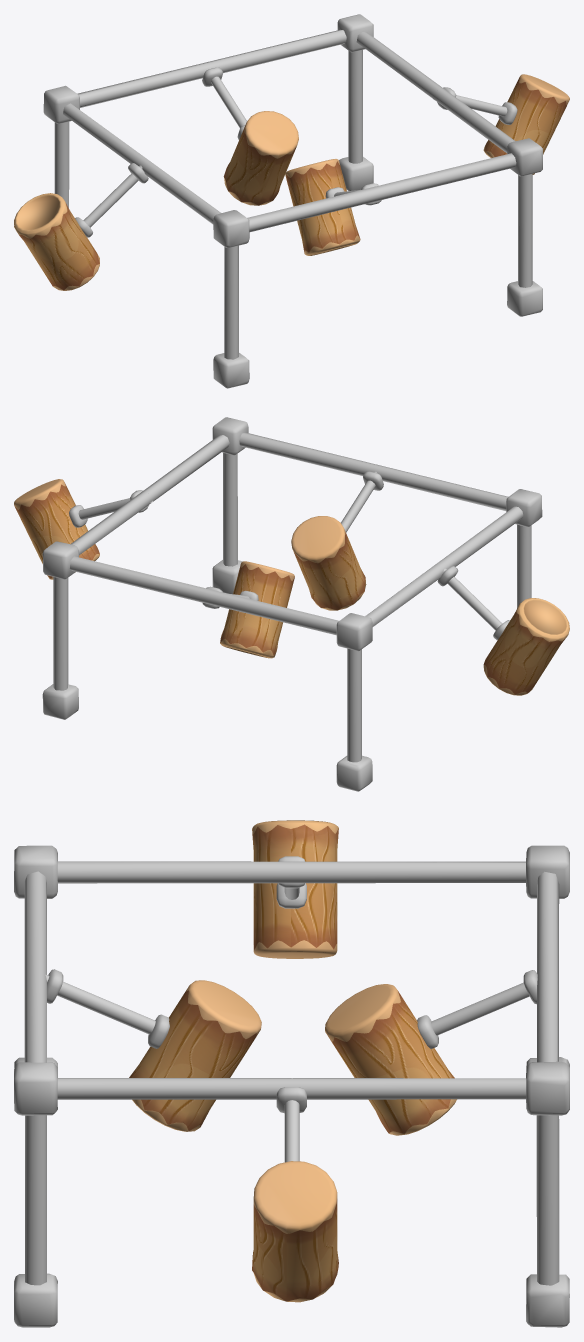
The model's file is Obstacle3.fbx.
The picture shows the model from 3 angles, top to bottom: view 1: azimuth 30°, elevation 25°; view 2: azimuth 150°, elevation 25°; view 3: azimuth 270°, elevation 25°; orthographic projection. The views are drawn at different scales.
Visible parts, largest first — view 1: Obstacle-11.002, Spiral.006, Spiral.009, Spiral.008, Spiral.020; view 2: Obstacle-11.002, Spiral.006, Spiral.008, Spiral.009, Spiral.020; view 3: Obstacle-11.002, Spiral.008, Spiral.009, Spiral.020, Spiral.006.
Boxes of the visible parts, x1,y1,x2,y2 form: Obstacle-11.002: (43,14,542,388); Spiral.006: (14,163,148,290); Spiral.009: (202,67,298,205); Spiral.008: (285,159,381,255); Spiral.020: (433,74,569,174); Obstacle-11.002: (42,417,542,791); Spiral.006: (437,566,569,695); Spiral.008: (291,471,383,610); Spiral.009: (202,561,294,658); Spiral.020: (14,479,152,579); Obstacle-11.002: (14,845,569,1327); Spiral.008: (45,969,261,1131); Spiral.009: (325,970,537,1135); Spiral.020: (252,1078,338,1302); Spiral.006: (252,820,338,958).
Size of the model in its own units: 746 by 217 by 434.
